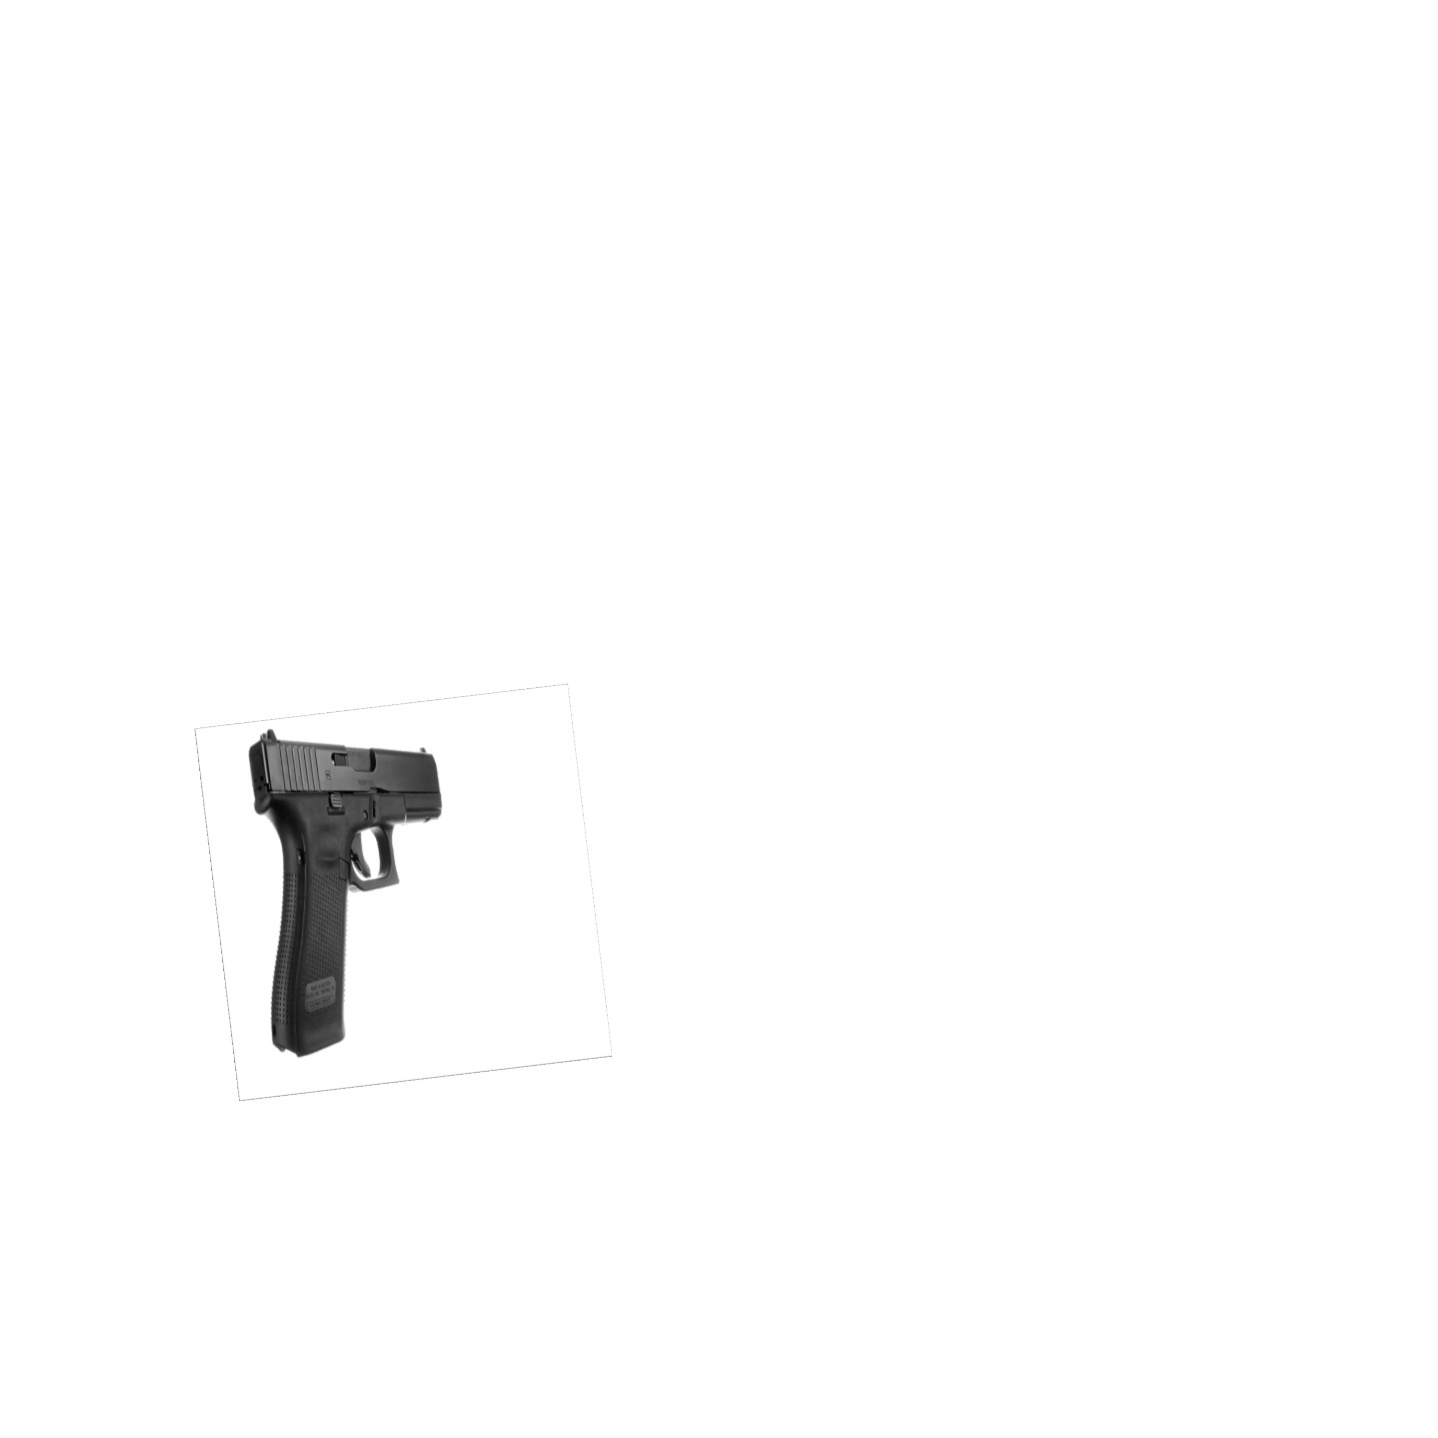gun: (238, 716, 452, 1064)
